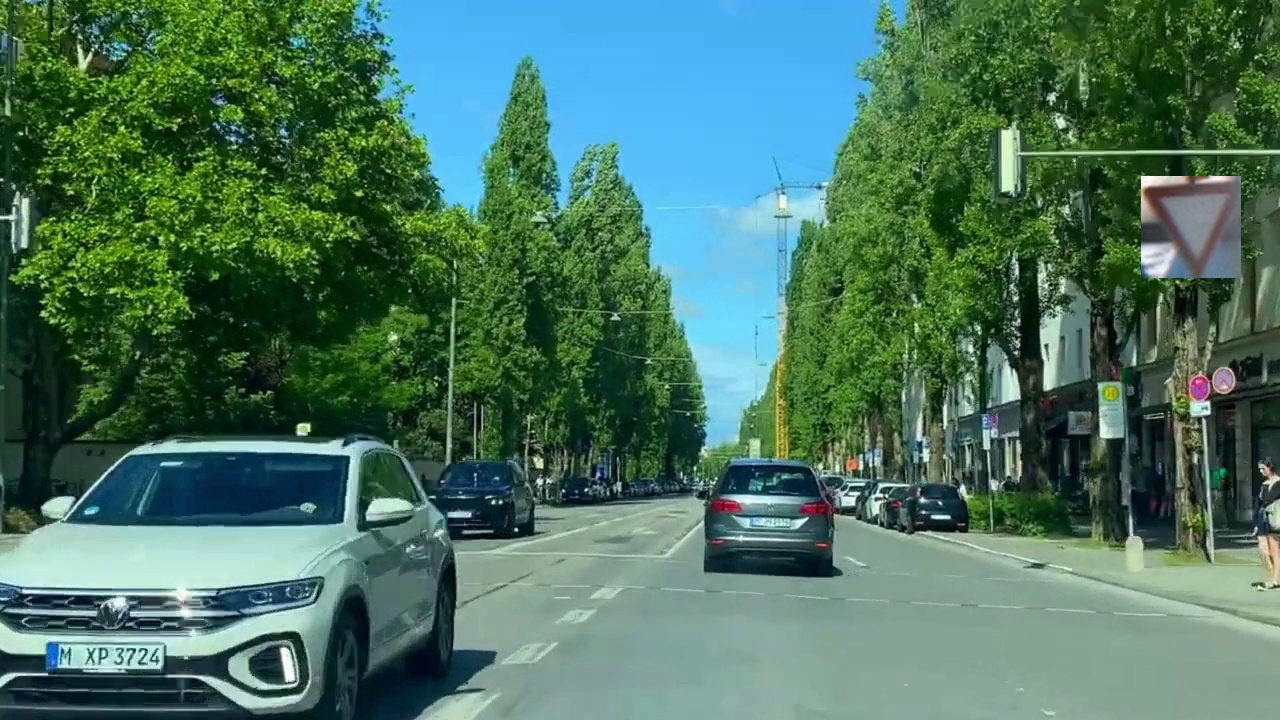Yield: (1141, 176, 1241, 278)
